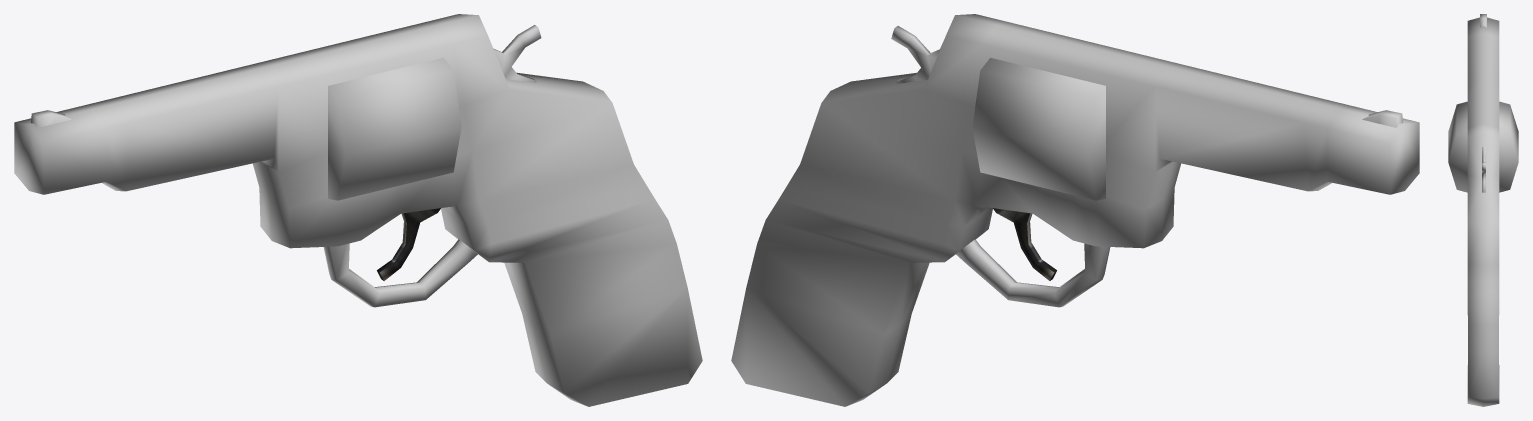
The model's file is Gun.obj.
The picture shows the model from 3 angles, left to right: view 1: azimuth 30°, elevation 25°; view 2: azimuth 150°, elevation 25°; view 3: azimuth 270°, elevation 25°; orthographic projection. The views are drawn at different scales.
Parts seen in each view (by area): view 1: Mesh; view 2: Mesh; view 3: Mesh.
Part boxes in pixels (box(x1,y1,x2,y2)): Mesh: box(14, 14, 702, 406); Mesh: box(731, 14, 1419, 406); Mesh: box(1448, 14, 1518, 406).
Bounding box in the file's own units: 0.6755 × 0.4039 × 0.1152.
